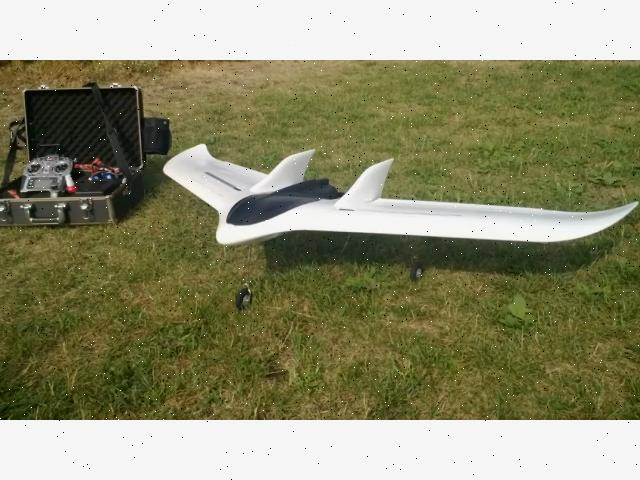Anti-Drone: (148, 129, 640, 295)
